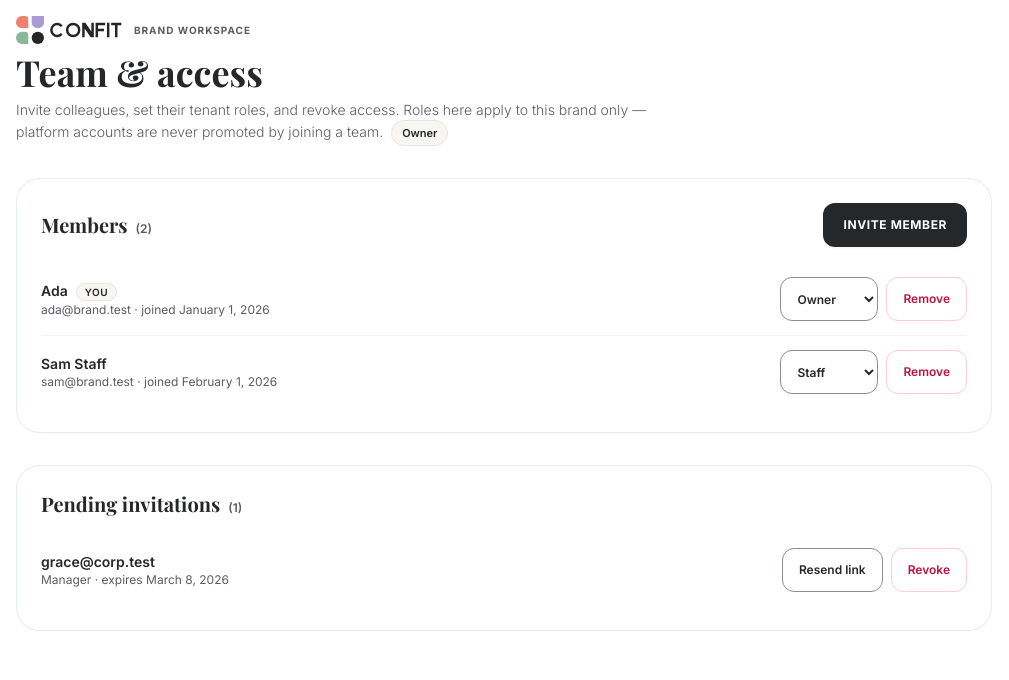
Scenario: BrandTeamView — owner surface › surfaces the server LAST_ACTIVE_OWNER refusal verbatim on a demotion
The image size is (1009, 680).
Select "Staff" in the dropdown named "Role for Ada" at (829, 299), box [780, 277, 878, 321]
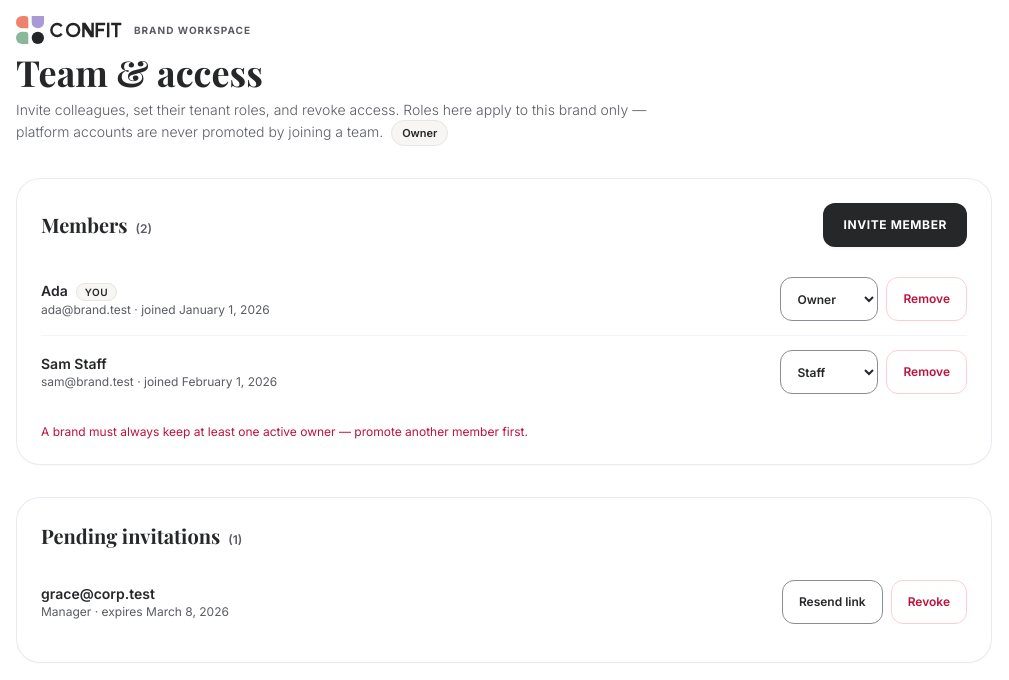
Expected: the text "at least one active owner" is shown, [41, 424, 528, 439]
